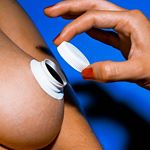other: (25, 55, 78, 102)
